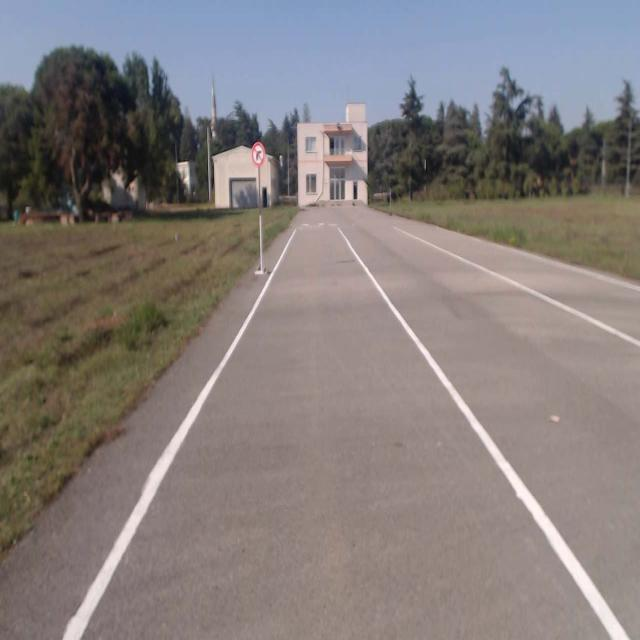sagadonulmez: (252, 142, 265, 166)
